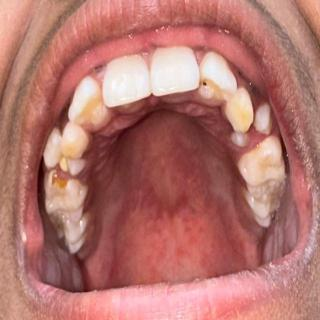UL2BC_healthy: (238, 137, 287, 185)
ULCI_healthy: (152, 47, 200, 96)
ULC_healthy: (224, 88, 254, 133)
ULLI_sdecay: (200, 50, 237, 100)
UR2BC_sdecay: (43, 169, 87, 213)
URCI_healthy: (103, 55, 152, 107)
URC_healthy: (60, 123, 89, 157)
URLI_healthy: (68, 77, 106, 127)
